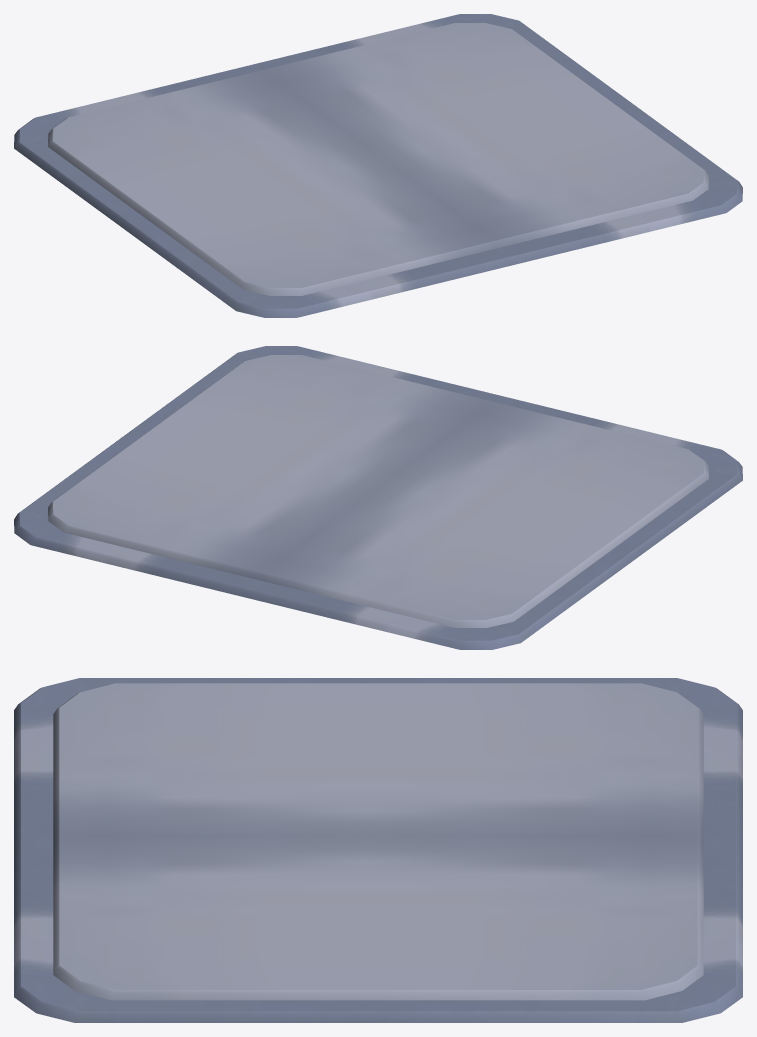
Rendered from 土地底座.fbx.
The picture shows the model from 3 angles, top to bottom: view 1: azimuth 30°, elevation 25°; view 2: azimuth 150°, elevation 25°; view 3: azimuth 270°, elevation 25°; orthographic projection. The views are drawn at different scales.
Visible parts, largest first — view 1: 对象001; view 2: 对象001; view 3: 对象001.
Boxes of the visible parts, box(x1,y1,x2,y2) form: 对象001: box(14, 14, 742, 317); 对象001: box(14, 346, 742, 649); 对象001: box(14, 678, 742, 1022).
Size of the model in its own units: 131 by 3.1 by 119.
